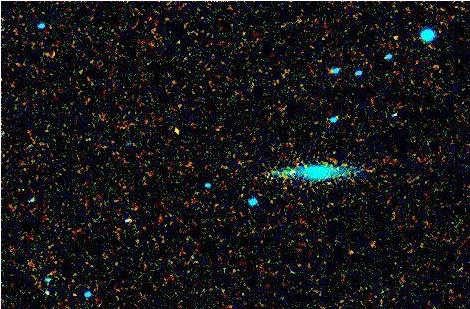star: (166, 120, 196, 150)
